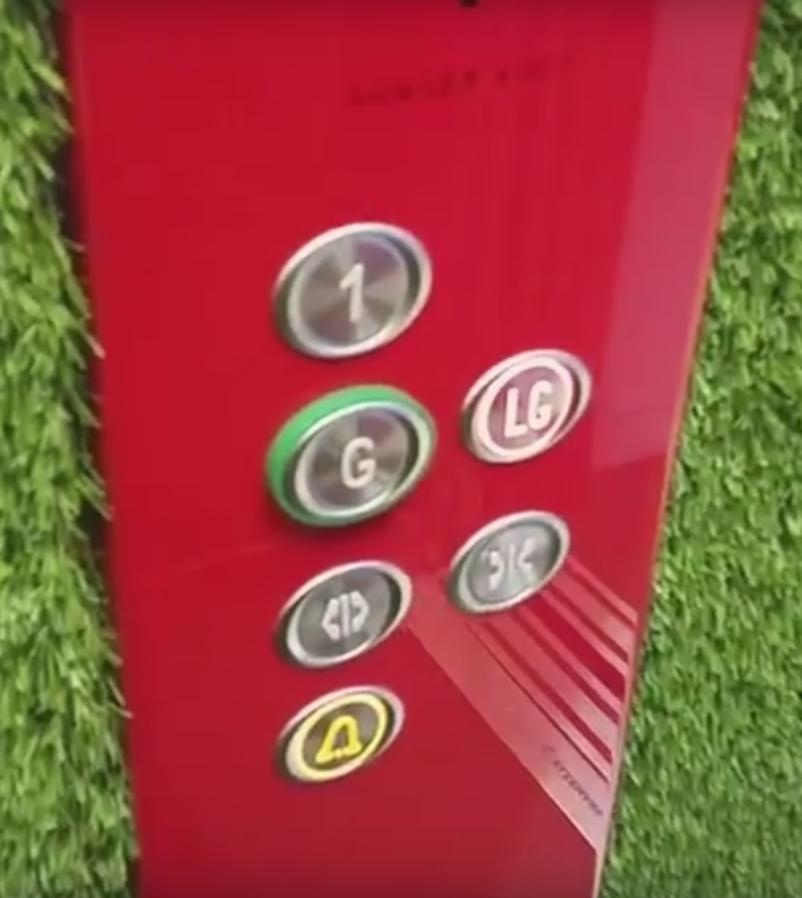1: (269, 219, 433, 362)
G: (263, 382, 440, 531)
LG: (459, 347, 592, 465)
alarm: (273, 685, 407, 782)
close: (444, 511, 571, 613)
open: (269, 556, 414, 670)
